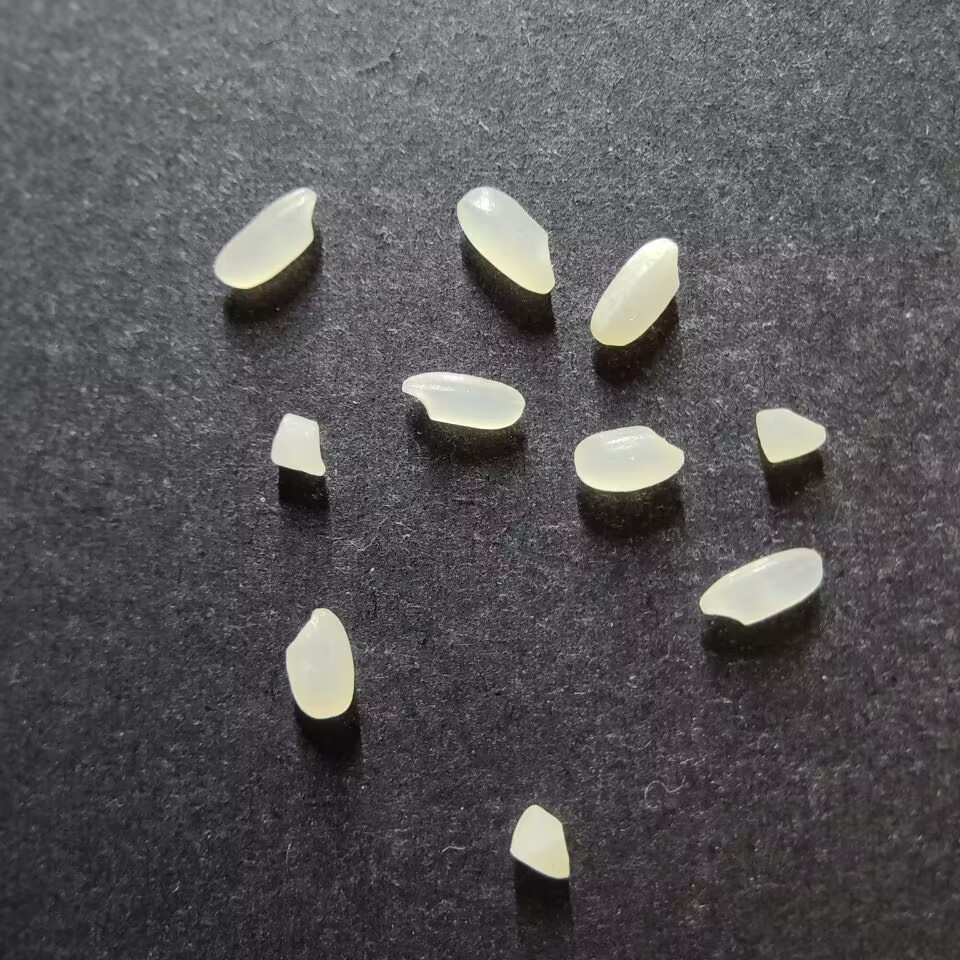broken: (509, 803, 571, 880), (756, 406, 827, 463), (270, 412, 327, 478)
rice: (456, 186, 556, 295), (214, 186, 318, 289), (590, 237, 681, 347), (699, 547, 824, 626), (285, 606, 355, 719), (574, 425, 686, 493), (402, 371, 526, 430)
